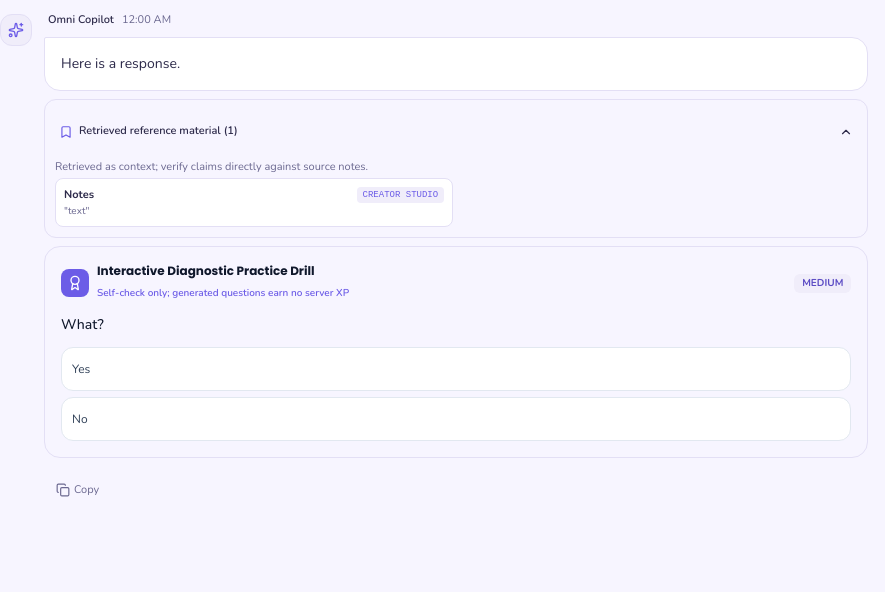
Test: Copilot message evidence and recovery › allows retry after a failed practice submission without showing false feedback
What coordinates should you click on to do the following:
click the button "Yes"
I would click on:
 (81, 369)
Its box is [61,348,851,392].
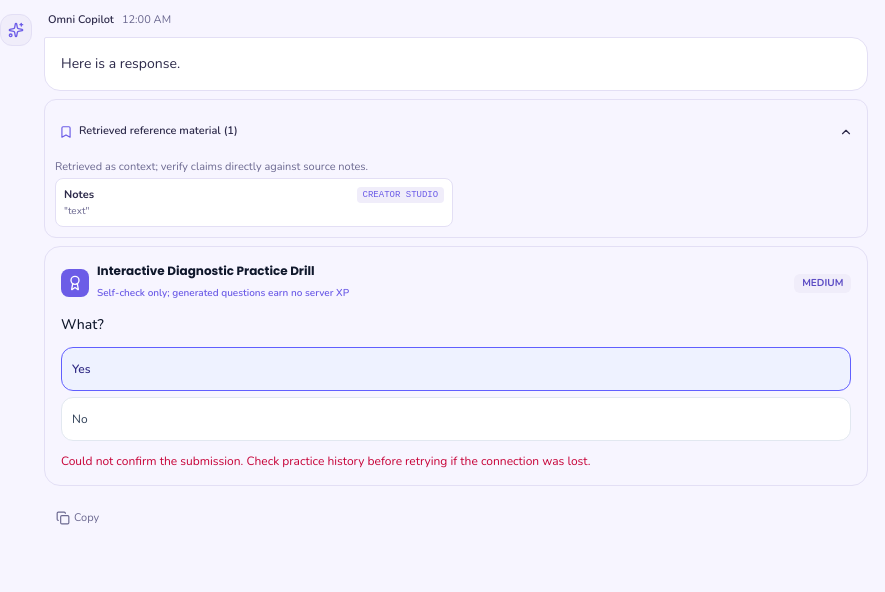
Expected: the message shows "Check practice history", [61,454,590,470]
What coordinates should you click on to do the following:
click the button "Yes"
I would click on:
 (81, 369)
Its box is [61,348,851,392].
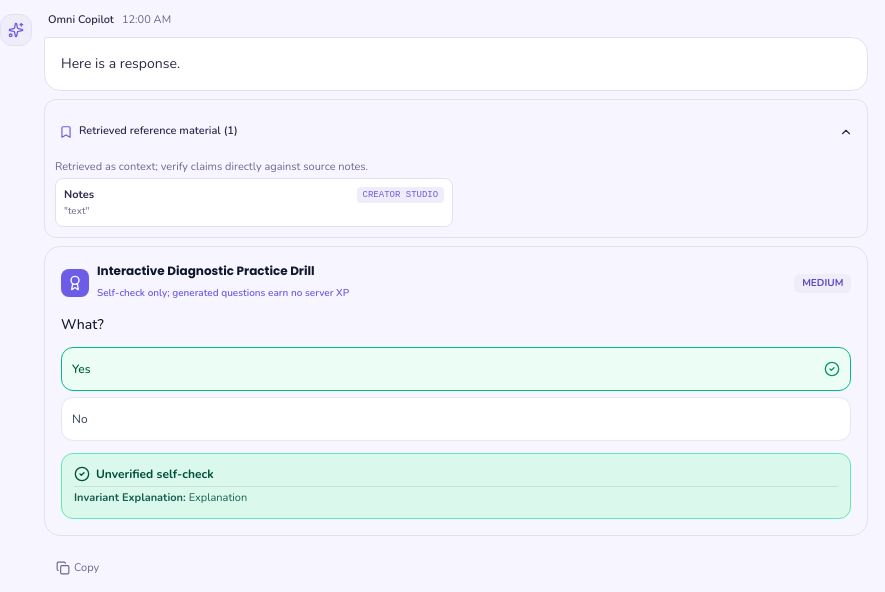
Expected: the text "Unverified self-check" is shown, [96,466,214,482]
Expected: the button "Yes" is disabled, [61,348,851,392]
